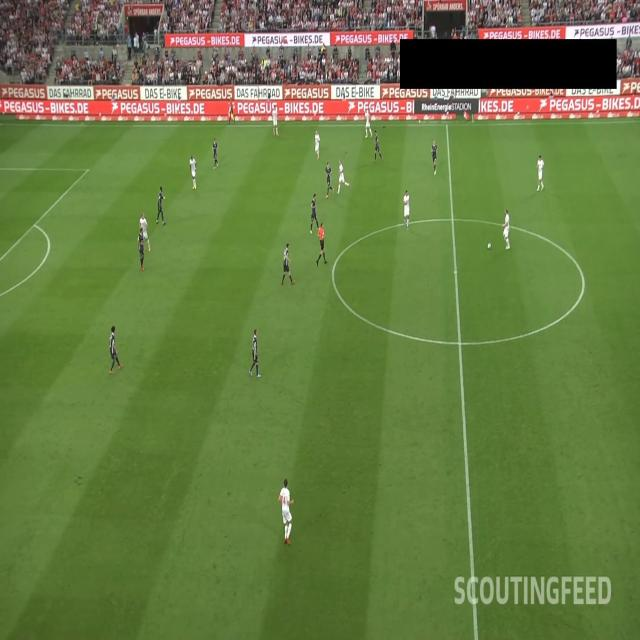ball: (487, 243, 491, 250)
